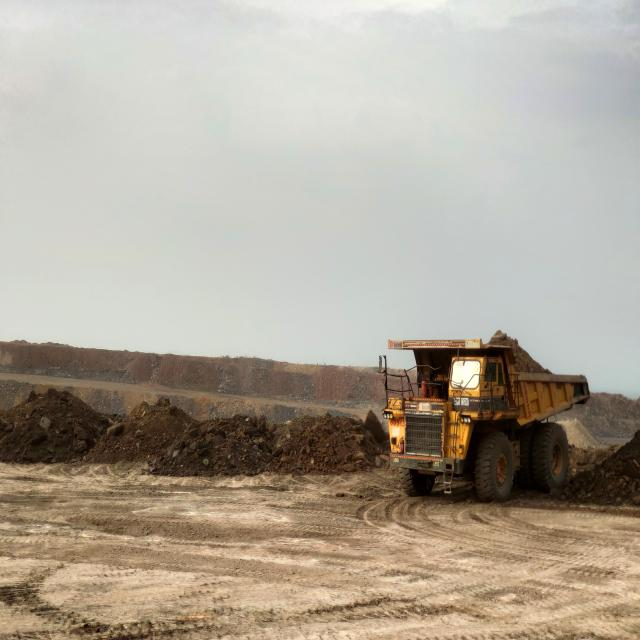dump_truck: (381, 340, 590, 502)
